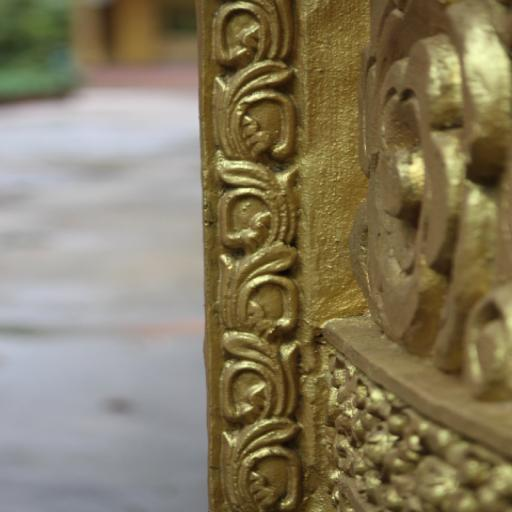la: (212, 321, 305, 512), (208, 161, 300, 329), (208, 10, 300, 165)
